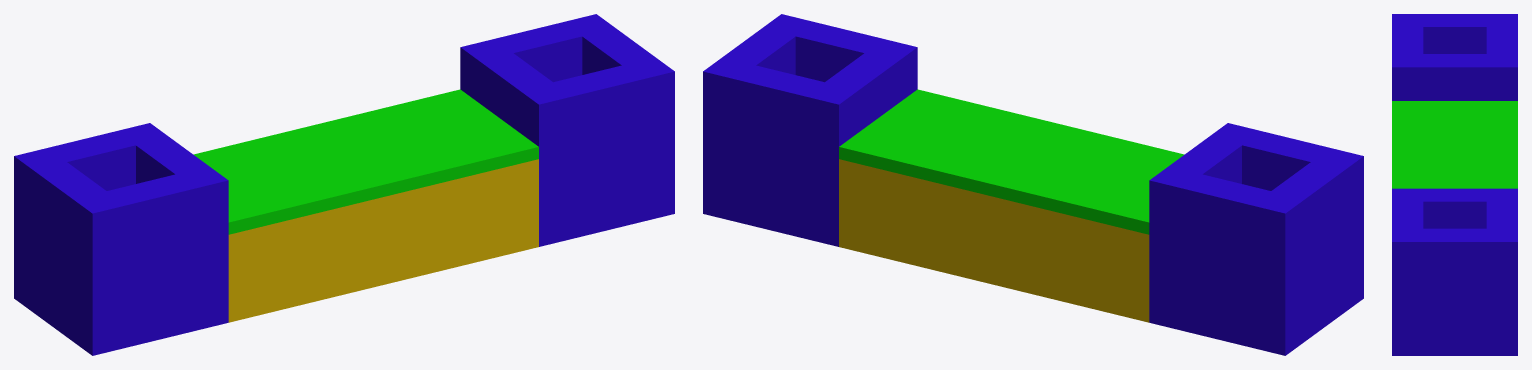
The model's file is bancoconcreto.fbx.
3 renders of one model, left to right at view 1: azimuth 30°, elevation 25°; view 2: azimuth 150°, elevation 25°; view 3: azimuth 270°, elevation 25°, orthographic. The views are drawn at different scales.
Parts seen in each view (by area): view 1: Banco; view 2: Banco; view 3: Banco.
Part boxes in pixels (x1,y1,x2,y2): Banco: (14, 14, 674, 355); Banco: (703, 14, 1363, 355); Banco: (1392, 14, 1517, 355).
Size of the model in its own units: 289 by 67.49 by 67.49.
